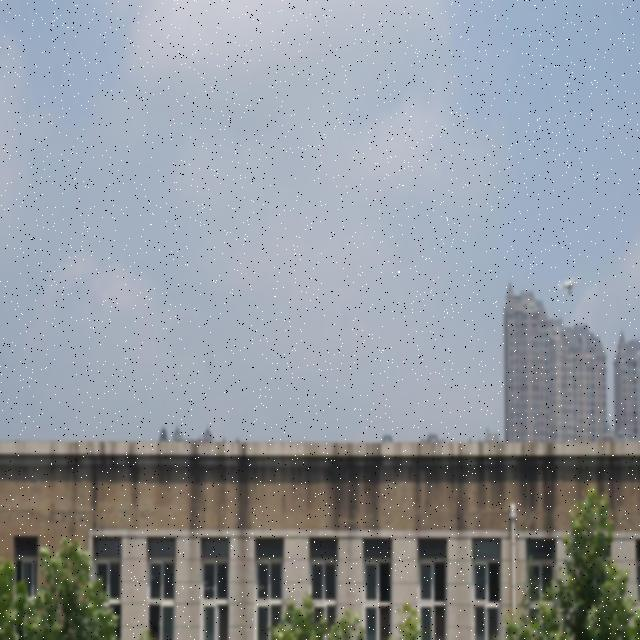UAV: (557, 276, 581, 298)
